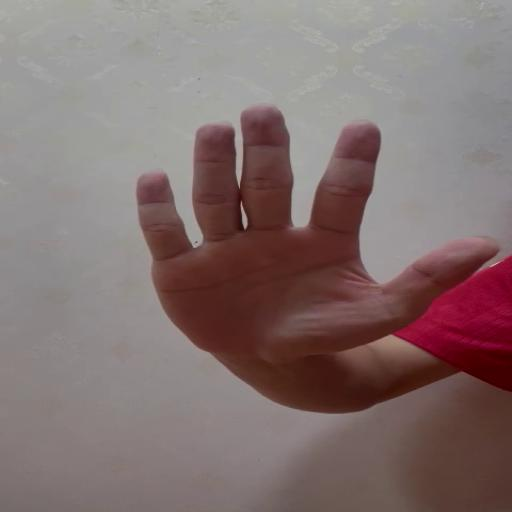open_palm: (135, 101, 505, 364)
